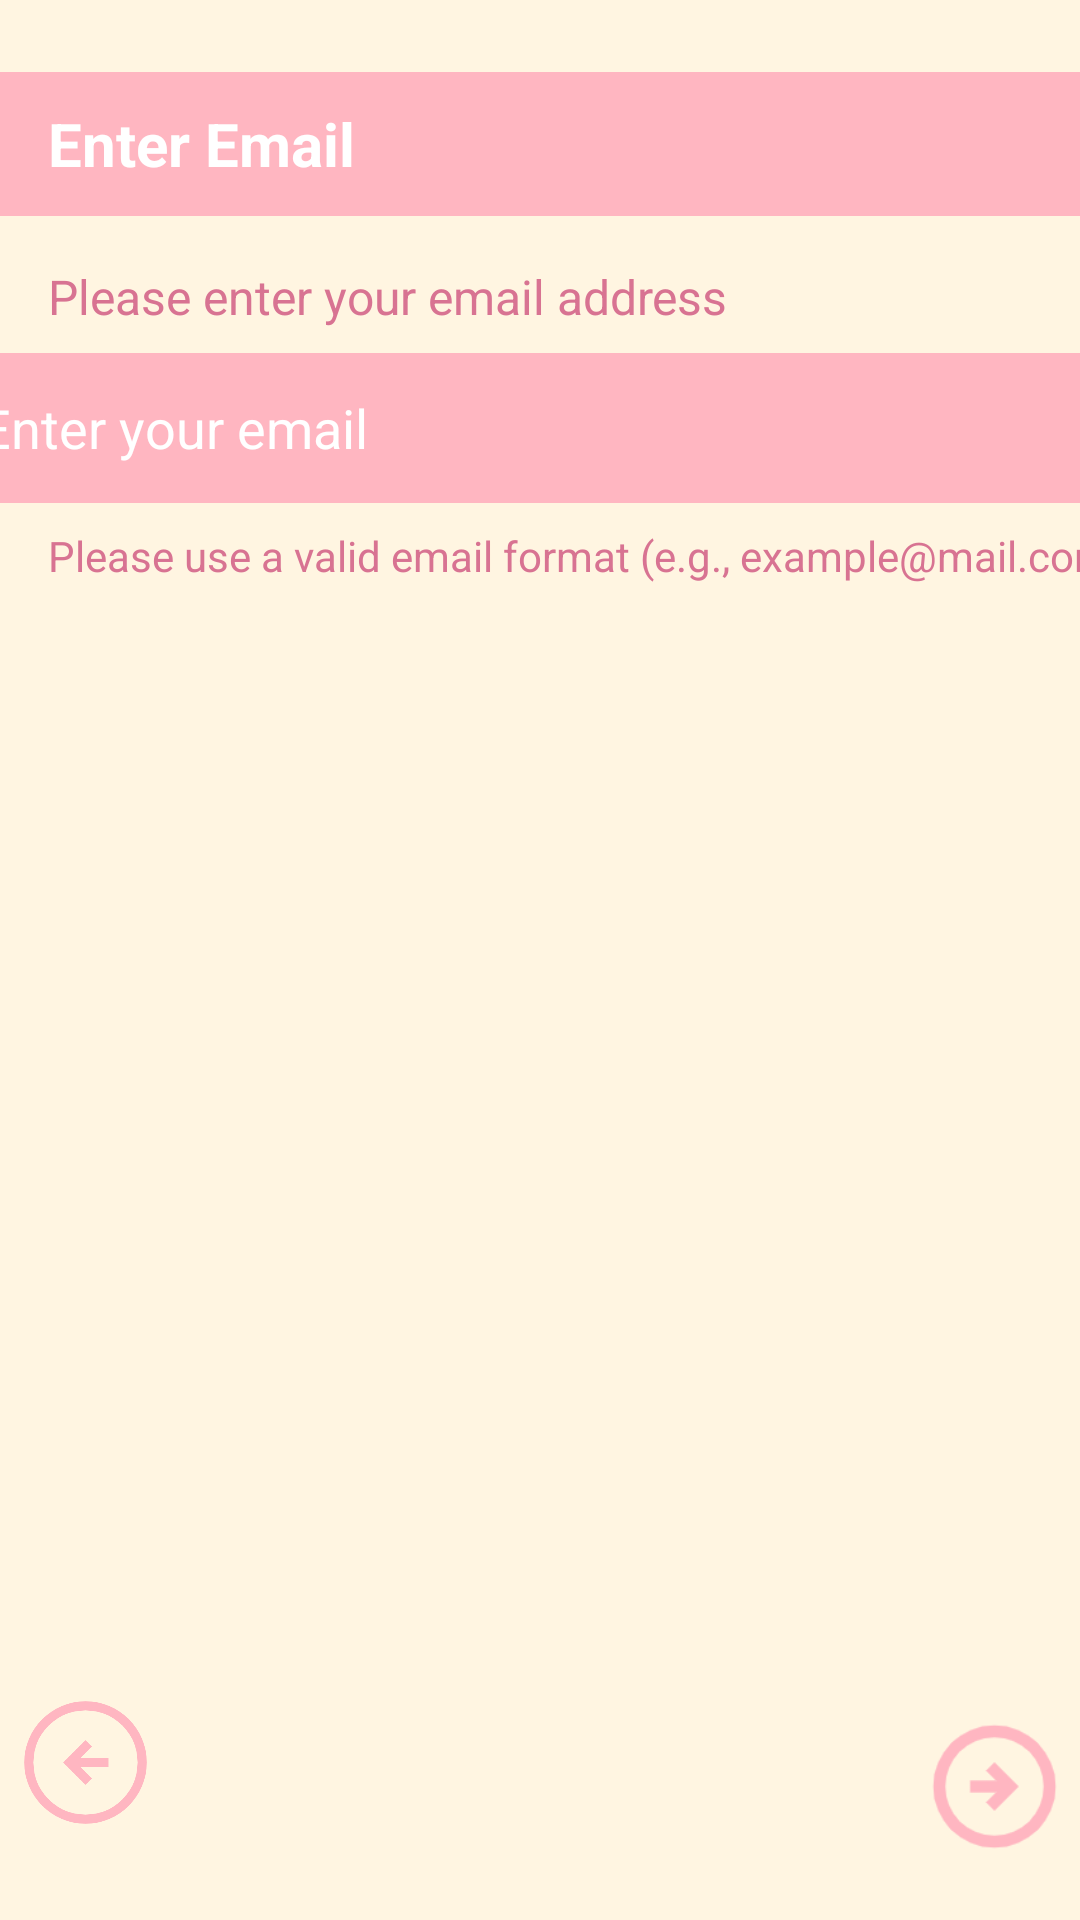

Screen size 1080x1920. Icon name, then its center in pixels as [x,y]:
Back: [85,1762]
Next: [994,1786]
